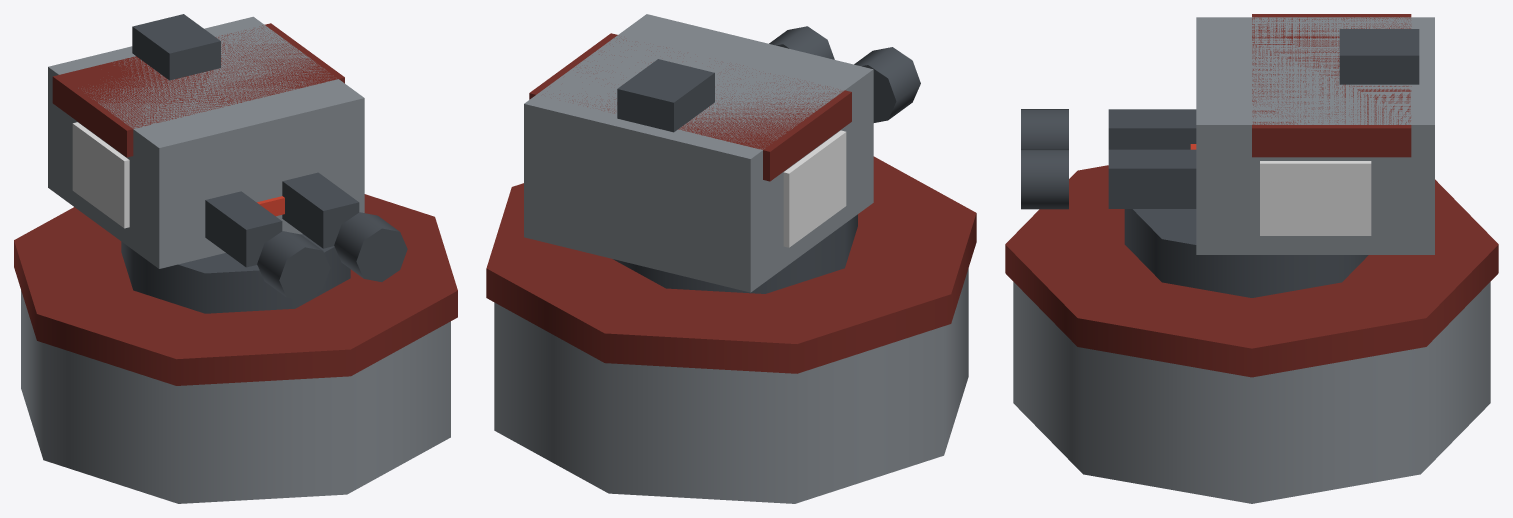
The picture shows the model from 3 angles, left to right: view 1: azimuth 30°, elevation 25°; view 2: azimuth 150°, elevation 25°; view 3: azimuth 270°, elevation 25°; orthographic projection. The views are drawn at different scales.
Visible parts, largest first — view 1: garde_building_turret_laser; view 2: garde_building_turret_laser; view 3: garde_building_turret_laser.
Boxes of the visible parts, bbox=[...] form: garde_building_turret_laser: bbox=[14, 14, 457, 503]; garde_building_turret_laser: bbox=[486, 14, 976, 503]; garde_building_turret_laser: bbox=[1005, 14, 1498, 503].
Size of the model in its own units: 3.1 by 2.5 by 3.1.
